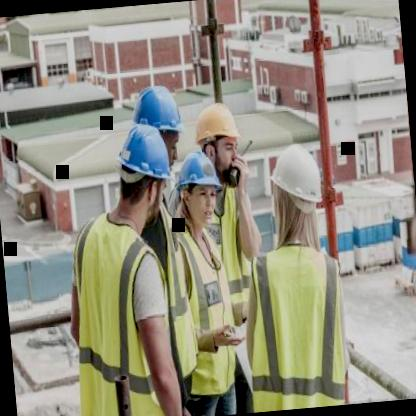helmet: (114, 94, 183, 219), (265, 136, 332, 244), (169, 144, 228, 235), (188, 98, 248, 183), (132, 82, 189, 158)
